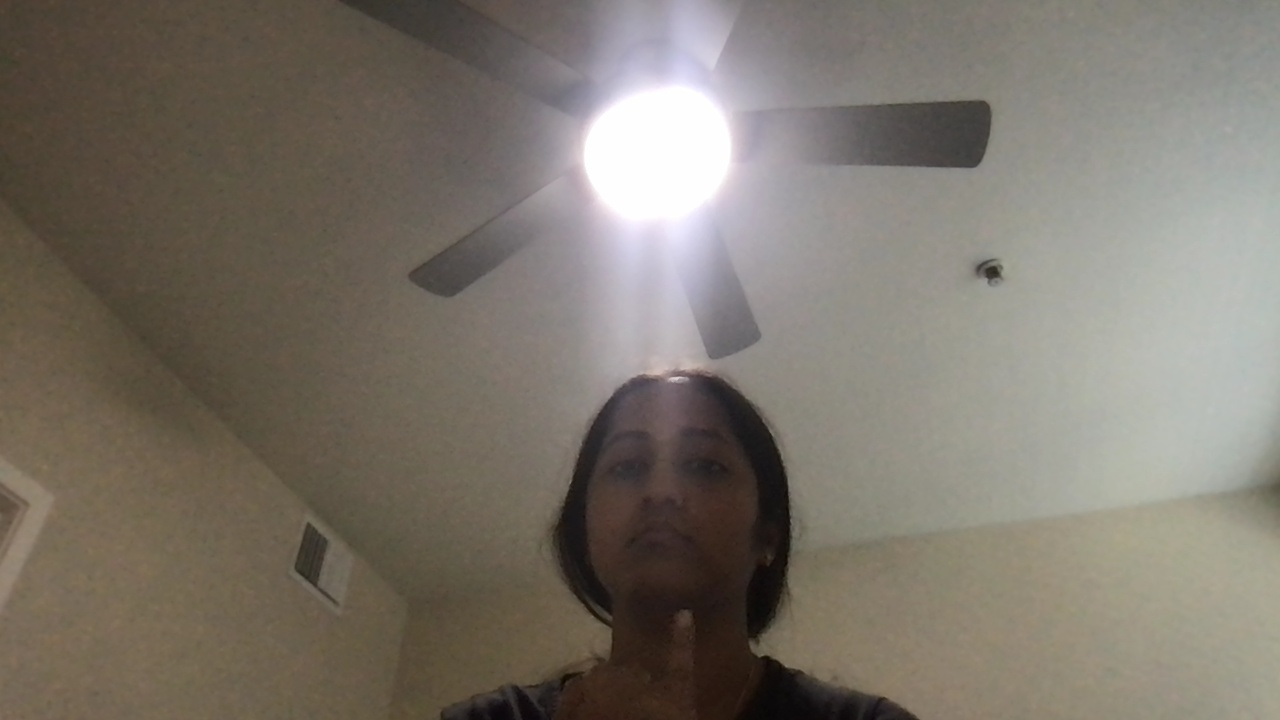j: (562, 606, 709, 715)
